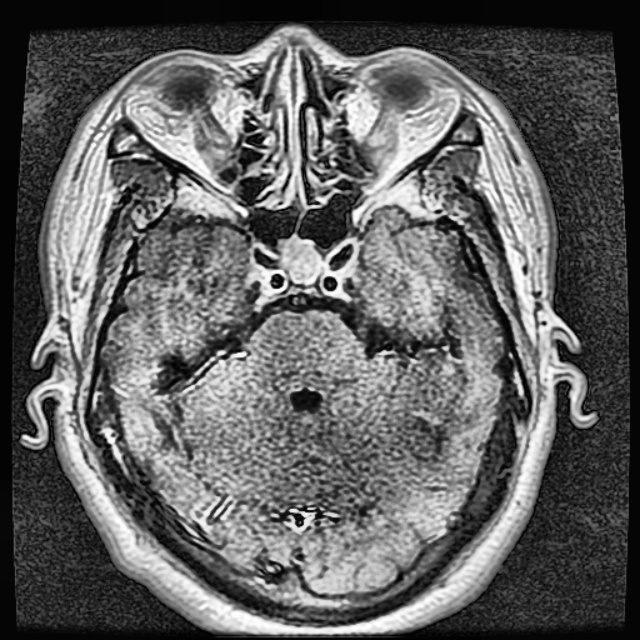Pituitary: (280, 238, 323, 285)
